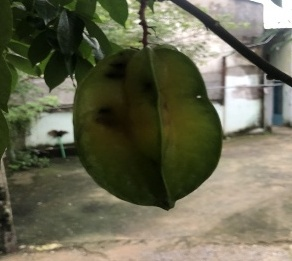Khe: (68, 42, 226, 214)
